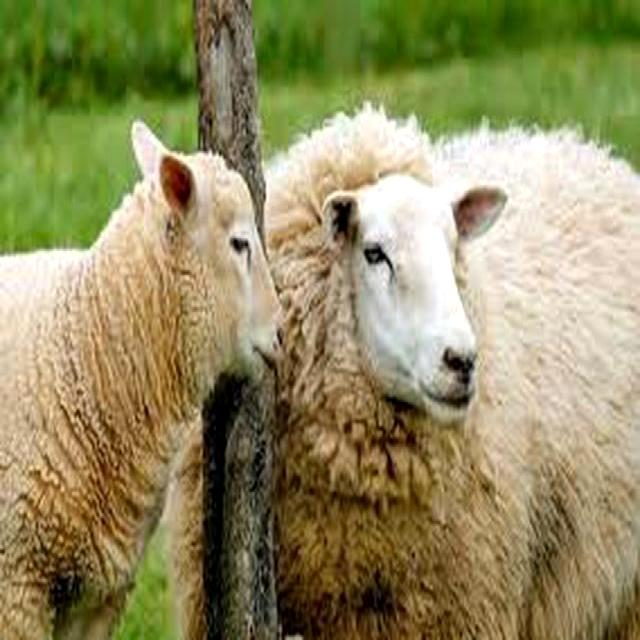sheep: (266, 117, 640, 640), (0, 117, 283, 638)
